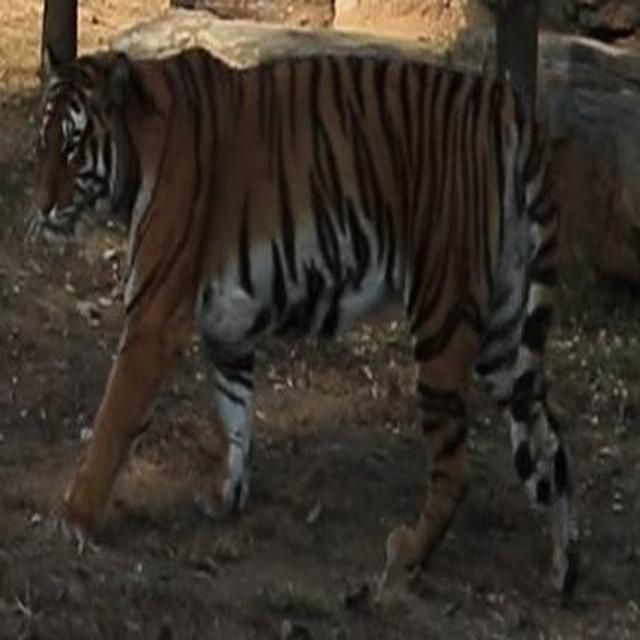tiger: (28, 1, 590, 608)
